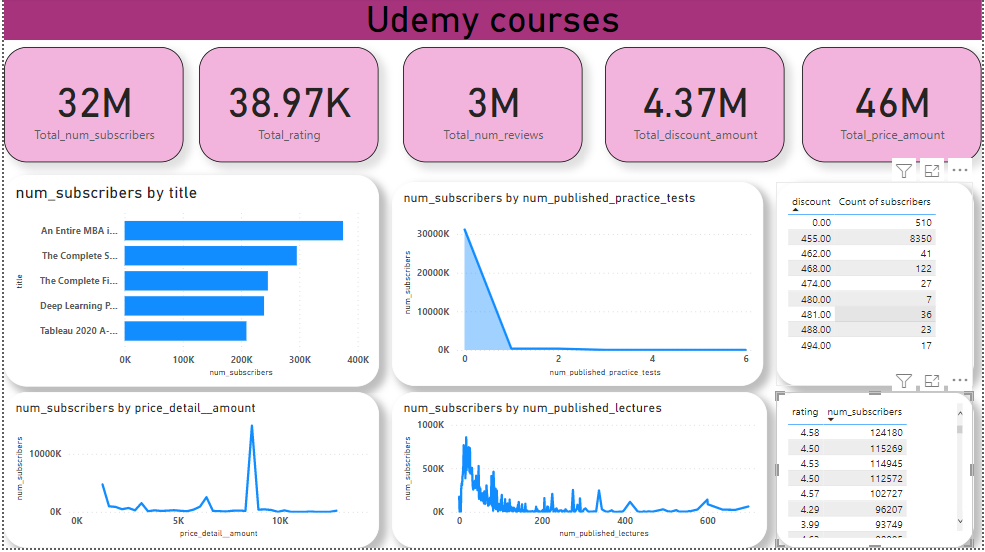

What the dashboard file says about the page in this screenshot:
{"tool":"powerbi","page":{"name":"Page 1","canvas":[1280,720],"ordinal":0},"visuals":[{"type":"textbox","title":"Udemy courses","box":[0,0,1280.3,64.1],"z":0},{"type":"card","title":"hxhxh","fields":{"Values":["Sum(udemy_output_All_Business_p1_p626.num_subscribers)"]},"box":[0,63.8,235.2,151.2],"z":1000},{"type":"card","title":"hxhxh","fields":{"Values":["Sum(udemy_output_All_Business_p1_p626.rating)"]},"box":[255.3,63.8,235.2,151.2],"z":2000},{"type":"card","title":"hxhxh","fields":{"Values":["Sum(udemy_output_All_Business_p1_p626.num_reviews)"]},"box":[522.4,63.8,235.2,151.2],"z":3000},{"type":"card","title":"hxhxh","fields":{"Values":["Sum(udemy_output_All_Business_p1_p626.discount_price__amount)"]},"box":[786.1,63.8,235.2,151.2],"z":4000},{"type":"card","title":"hxhxh","fields":{"Values":["Sum(udemy_output_All_Business_p1_p626.price_detail__amount)"]},"box":[1044.8,63.8,235.2,151.2],"z":5000},{"type":"clusteredBarChart","fields":{"Category":["udemy_output_All_Business_p1_p626.title"],"Y":["Sum(udemy_output_All_Business_p1_p626.num_subscribers)"]},"box":[0,231.2,491.4,276.6],"z":6000},{"type":"stackedAreaChart","fields":{"Category":["udemy_output_All_Business_p1_p626.num_published_practice_tests"],"Y":["Sum(udemy_output_All_Business_p1_p626.num_subscribers)"]},"box":[507.9,240.9,485.8,267],"z":7000},{"type":"tableEx","fields":{"Values":["udemy_output_All_Business_p1_p626.discount_price__amount","CountNonNull(udemy_output_All_Business_p1_p626.num_subscribers)"]},"box":[1010.2,240.9,258.8,267],"z":8000},{"type":"lineChart","fields":{"Y":["Sum(udemy_output_All_Business_p1_p626.num_subscribers)"],"Category":["udemy_output_All_Business_p1_p626.price_detail__amount"]},"box":[0,516.1,491.4,203.7],"z":9000},{"type":"lineChart","fields":{"Y":["Sum(udemy_output_All_Business_p1_p626.num_subscribers)"],"Category":["udemy_output_All_Business_p1_p626.num_published_lectures"]},"box":[507.9,516.1,491.4,203.7],"z":9001},{"type":"tableEx","fields":{"Values":["udemy_output_All_Business_p1_p626.rating","Sum(udemy_output_All_Business_p1_p626.num_subscribers)"]},"box":[1010.2,516.1,258.8,203.7],"z":9002}]}

Visuals, with their boxes in screenshot pixels (x1, y1, x2, y2), scaled from the page's 1280x720 canvas onto the 985x552 screenshot:
"Udemy courses" textbox: locate(0, 0, 984, 49)
"hxhxh" card: locate(0, 49, 181, 165)
"hxhxh" card: locate(196, 49, 377, 165)
"hxhxh" card: locate(402, 49, 583, 165)
"hxhxh" card: locate(605, 49, 786, 165)
"hxhxh" card: locate(804, 49, 984, 165)
clusteredBarChart - udemy_output_All_Business_p1_p626.title x Sum(udemy_output_All_Business_p1_p626.num_subscribers): locate(0, 177, 378, 389)
stackedAreaChart - udemy_output_All_Business_p1_p626.num_published_practice_tests x Sum(udemy_output_All_Business_p1_p626.num_subscribers): locate(391, 185, 765, 389)
tableEx - udemy_output_All_Business_p1_p626.discount_price__amount x CountNonNull(udemy_output_All_Business_p1_p626.num_subscribers): locate(777, 185, 977, 389)
lineChart - Sum(udemy_output_All_Business_p1_p626.num_subscribers) x udemy_output_All_Business_p1_p626.price_detail__amount: locate(0, 396, 378, 551)
lineChart - Sum(udemy_output_All_Business_p1_p626.num_subscribers) x udemy_output_All_Business_p1_p626.num_published_lectures: locate(391, 396, 769, 551)
tableEx - udemy_output_All_Business_p1_p626.rating x Sum(udemy_output_All_Business_p1_p626.num_subscribers): locate(777, 396, 977, 551)
